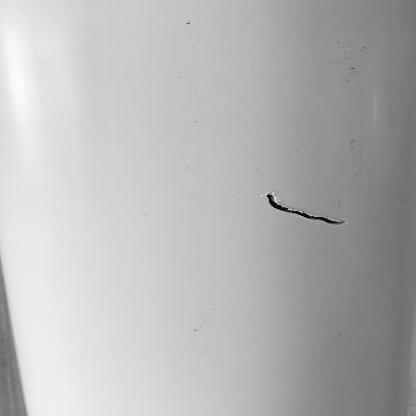fengxi: (258, 185, 348, 234)
